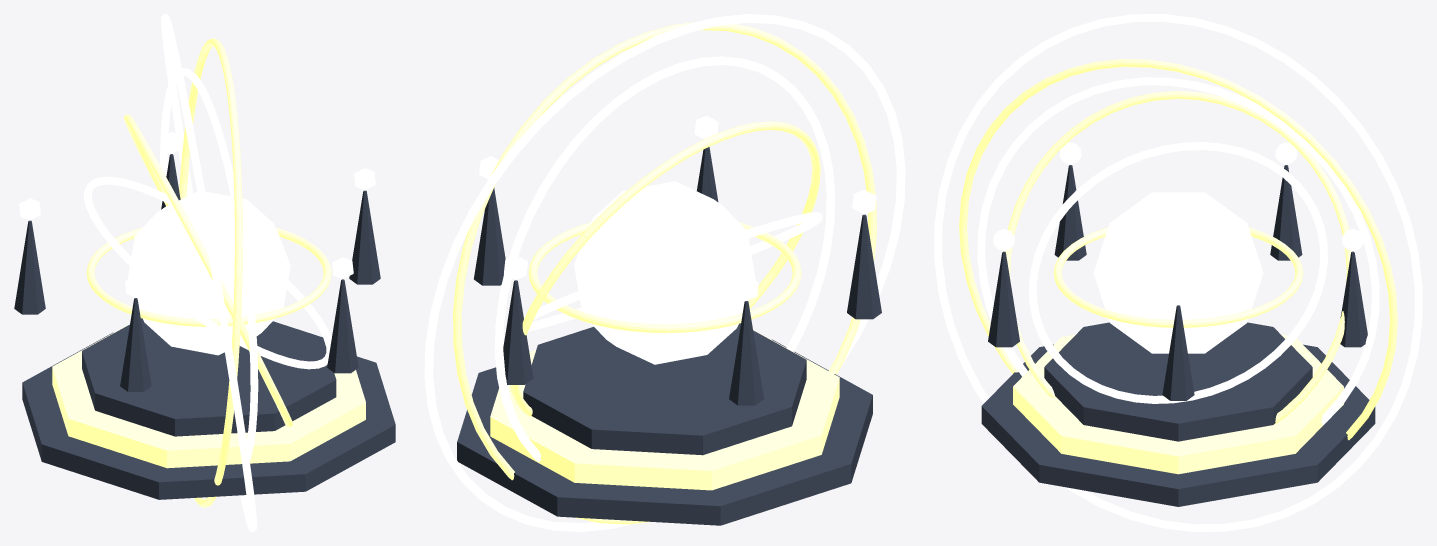
File: gpu-blender-v19.glb
The picture shows the model from 3 angles, left to right: view 1: azimuth 30°, elevation 25°; view 2: azimuth 150°, elevation 25°; view 3: azimuth 270°, elevation 25°; orthographic projection. The views are drawn at different scales.
Parts seen in each view (by area): view 1: Cylinder.002, Cylinder, SovereignCore_gelato-connector, Cylinder.001, Torus.005, Torus.004, Torus.001, Torus.003, Torus, Torus.002, Cone.004, Cone.002 (+2 smaller); view 2: Cylinder.002, SovereignCore_gelato-connector, Cylinder, Cylinder.001, Torus.005, Torus.003, Torus.004, Torus.002, Torus, Torus.001, Cone.003, Cone.002 (+3 smaller); view 3: SovereignCore_gelato-connector, Cylinder.002, Cylinder, Cylinder.001, Torus.005, Torus.004, Torus.001, Torus.003, Torus.002, Torus, Cone.004, Cone (+3 smaller).
Boxes of the visible parts, <box> form: Cylinder.002: <box>82,318,336,436</box>; Cylinder: <box>22,332,395,499</box>; SovereignCore_gelato-connector: <box>127,191,290,355</box>; Cylinder.001: <box>52,325,365,468</box>; Torus.005: <box>161,14,257,531</box>; Torus.004: <box>179,38,242,507</box>; Torus.001: <box>84,176,331,369</box>; Torus.003: <box>160,68,258,459</box>; Torus: <box>86,227,331,326</box>; Torus.002: <box>124,114,293,426</box>; Cone.004: <box>327,279,358,373</box>; Cone.002: <box>14,220,45,314</box>; Cylinder.002: <box>523,323,806,455</box>; SovereignCore_gelato-connector: <box>574,181,755,364</box>; Cylinder: <box>457,339,872,525</box>; Cylinder.001: <box>490,330,839,490</box>; Torus.005: <box>424,14,905,531</box>; Torus.003: <box>494,56,835,461</box>; Torus.004: <box>453,22,876,524</box>; Torus.002: <box>510,121,820,416</box>; Torus: <box>528,222,801,333</box>; Torus.001: <box>523,212,822,331</box>; Cone.003: <box>847,214,881,319</box>; Cone.002: <box>729,301,763,405</box>; SovereignCore_gelato-connector: <box>1093,192,1263,353</box>; Cylinder.002: <box>1044,322,1312,441</box>; Cylinder: <box>981,344,1375,506</box>; Cylinder.001: <box>1013,334,1343,474</box>; Torus.005: <box>934,14,1422,531</box>; Torus.004: <box>959,59,1397,440</box>; Torus.001: <box>1029,142,1327,403</box>; Torus.003: <box>977,77,1379,424</box>; Torus.002: <box>1004,91,1352,423</box>; Torus: <box>1053,227,1303,327</box>; Cone.004: <box>988,251,1019,347</box>; Cone: <box>1162,305,1194,400</box>.
Bounding box in the file's own units: 4.41 × 5.93 × 5.46.
